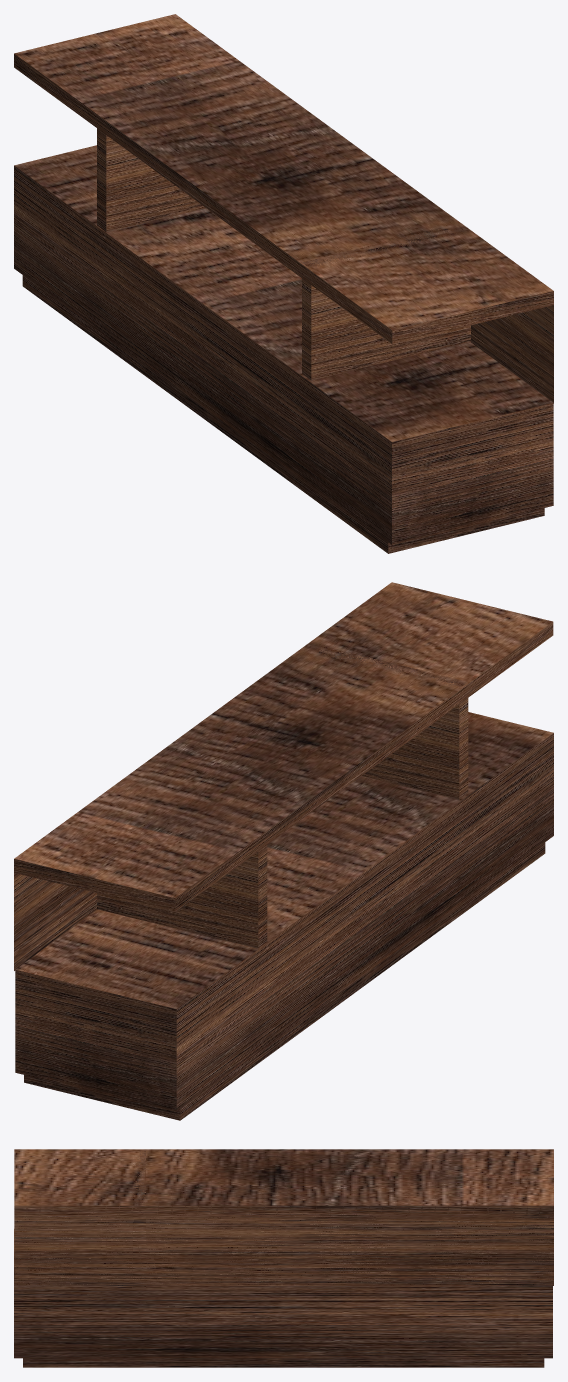
3 renders of one model, top to bottom at view 1: azimuth 30°, elevation 25°; view 2: azimuth 150°, elevation 25°; view 3: azimuth 270°, elevation 25°, orthographic. The views are drawn at different scales.
Visible parts, largest first — view 1: mueble; view 2: mueble; view 3: mueble.
Part boxes in pixels (x1=…): mueble: x1=14, y1=14, x2=553, y2=553; mueble: x1=14, y1=582, x2=553, y2=1120; mueble: x1=14, y1=1149, x2=553, y2=1367.
Bounding box in the file's own units: 201 × 270 × 812.
